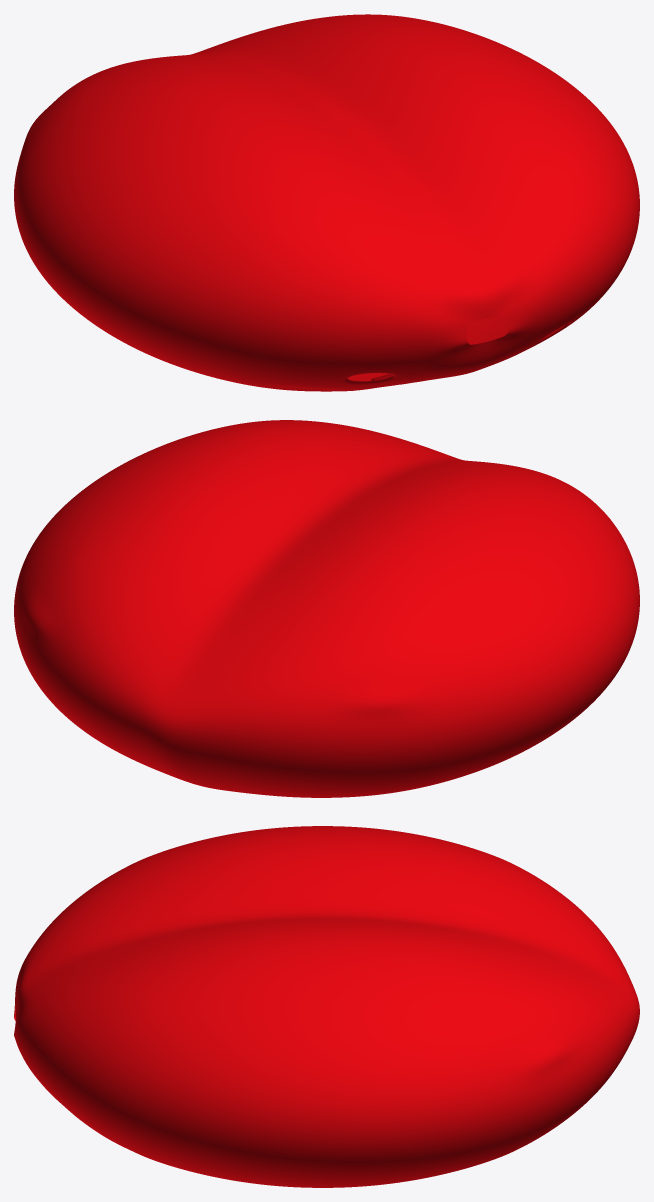
Rendered from zone2-rhino-red.gltf.
The picture shows the model from 3 angles, top to bottom: view 1: azimuth 30°, elevation 25°; view 2: azimuth 150°, elevation 25°; view 3: azimuth 270°, elevation 25°; orthographic projection. The views are drawn at different scales.
Parts seen in each view (by area): view 1: TeteBas; view 2: TeteBas; view 3: TeteBas.
Boxes of the visible parts, x1,y1,x2,y2 form: TeteBas: [14, 14, 639, 391]; TeteBas: [14, 420, 639, 797]; TeteBas: [14, 826, 639, 1187].
Bounding box in the file's own units: 3.36 × 1.53 × 3.52.
